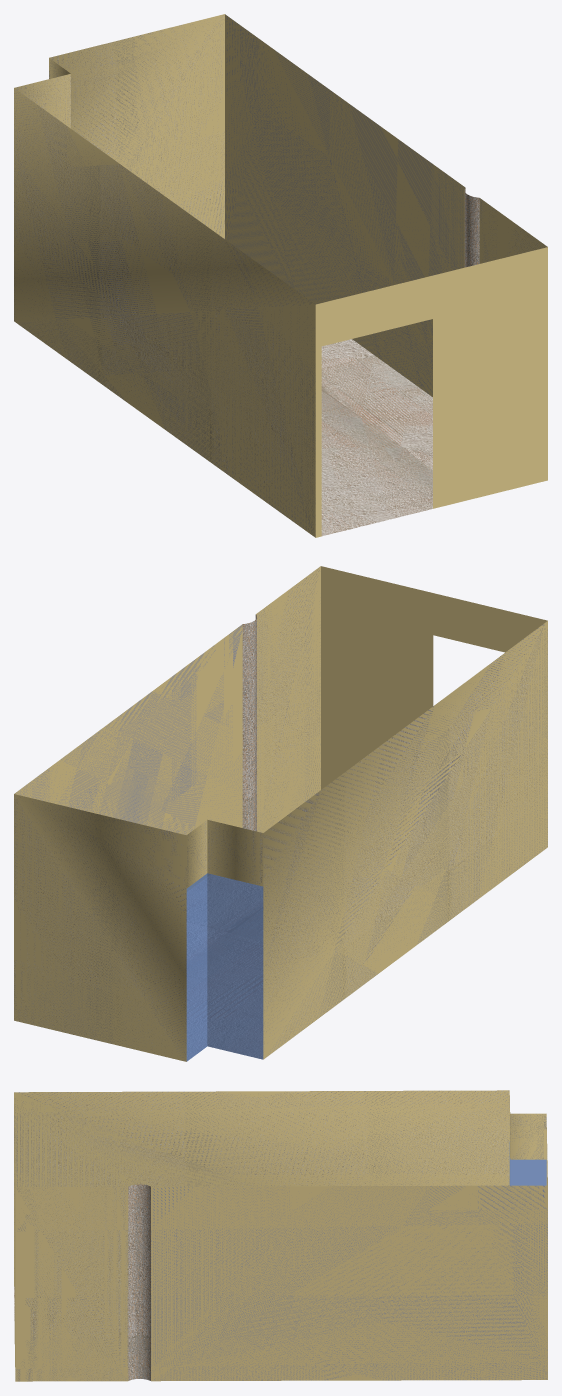
The model's file is SEM016.obj.
3 renders of one model, top to bottom at view 1: azimuth 30°, elevation 25°; view 2: azimuth 150°, elevation 25°; view 3: azimuth 270°, elevation 25°, orthographic. The views are drawn at different scales.
Parts seen in each view (by area): view 1: Mesh1 SEM016 Model; view 2: Mesh1 SEM016 Model; view 3: Mesh1 SEM016 Model.
Part boxes in pixels (x1,y1,x2,y2): Mesh1 SEM016 Model: [14, 14, 547, 537]; Mesh1 SEM016 Model: [14, 566, 547, 1061]; Mesh1 SEM016 Model: [14, 1090, 547, 1381].
Bounding box in the file's own units: 3.83 × 3.6 × 8.96.
Materials: 6 (2 with a texture image).
